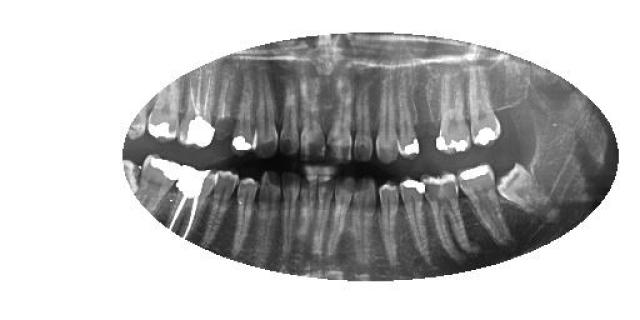Cavity: (215, 78, 234, 142)
Fillings: (456, 164, 512, 245), (135, 152, 183, 214), (466, 65, 502, 146), (399, 176, 431, 265), (436, 76, 472, 154), (231, 74, 255, 158), (148, 81, 178, 144), (398, 90, 422, 161)
Implant: (168, 162, 216, 238), (176, 66, 215, 149)
Restorations: (497, 160, 548, 216)
